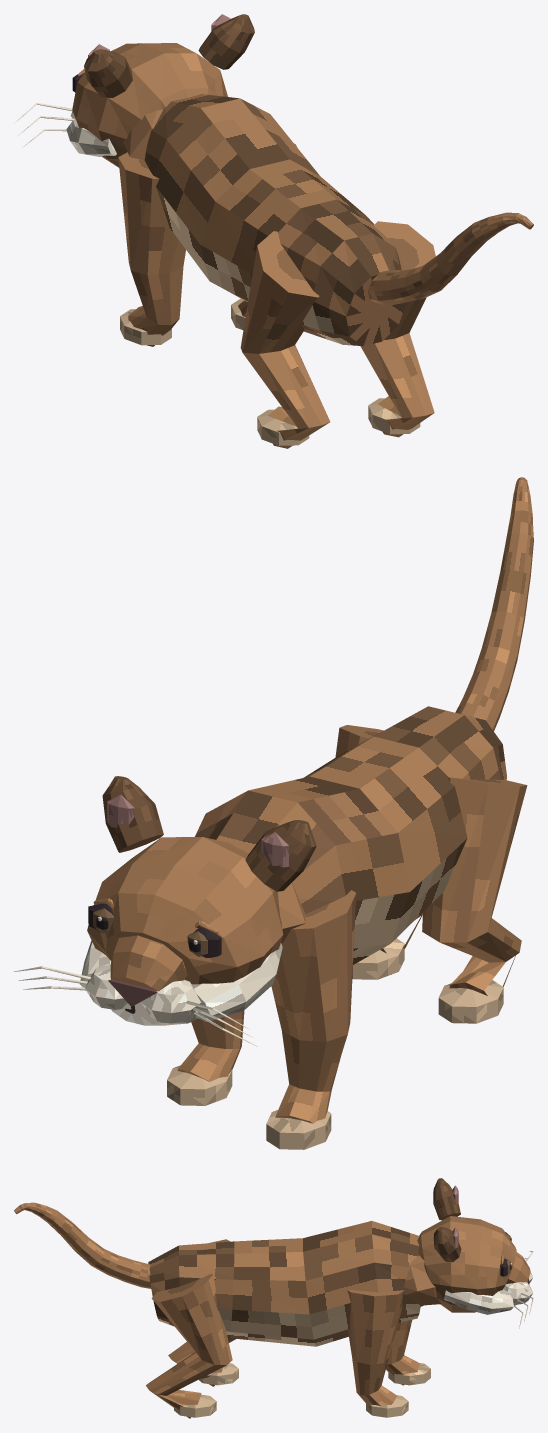
The model's file is mon_cougar_kitten.glb.
3 views of the same model, one above another, from view 1: azimuth 30°, elevation 25°; view 2: azimuth 150°, elevation 25°; view 3: azimuth 270°, elevation 25° (orthographic). The views are drawn at different scales.
Visible parts, largest first — view 1: closed_body; view 2: closed_body; view 3: closed_body.
Boxes of the visible parts, bbox=[...] form: closed_body: bbox=[14, 14, 533, 448]; closed_body: bbox=[14, 477, 533, 1149]; closed_body: bbox=[14, 1178, 533, 1418].
Bounding box in the file's own units: 0.1311 × 0.2065 × 0.451.
1 material, 1 textured.
